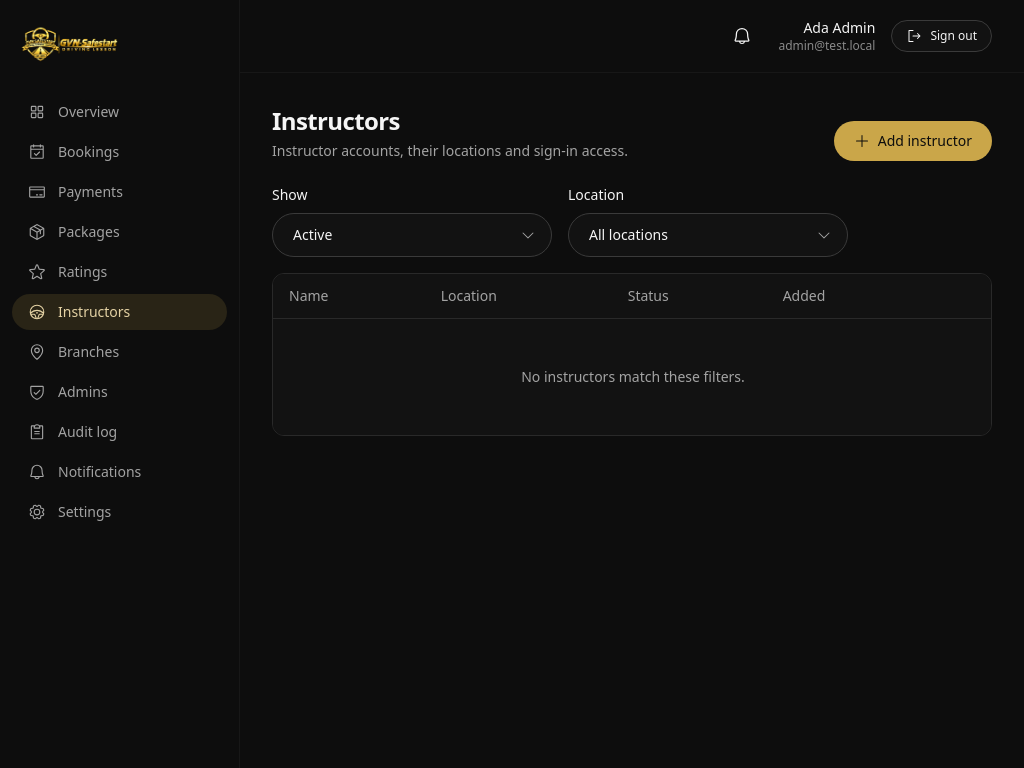
Test: instructors › requires name, email, location and every address part
This screenshot has width=1024, height=768.
Click the button "Add instructor" at (913, 141), box [834, 121, 992, 161]
(page scrolled)
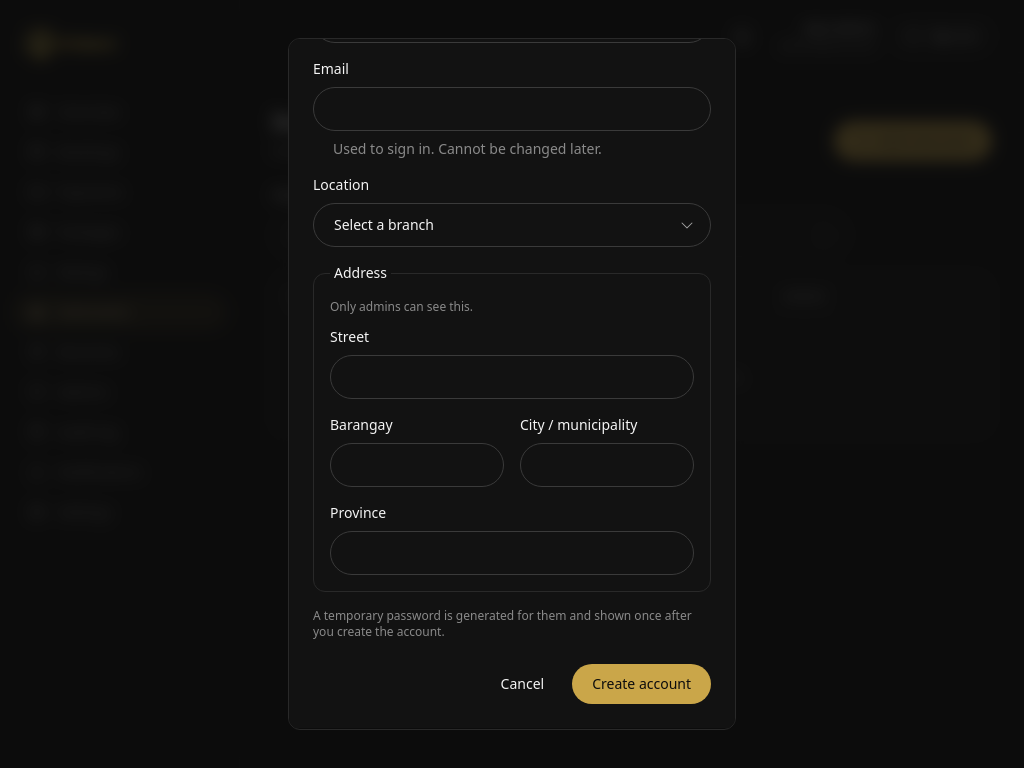
Click the button "Create account" at (642, 684), box [572, 664, 711, 704]
(page scrolled)
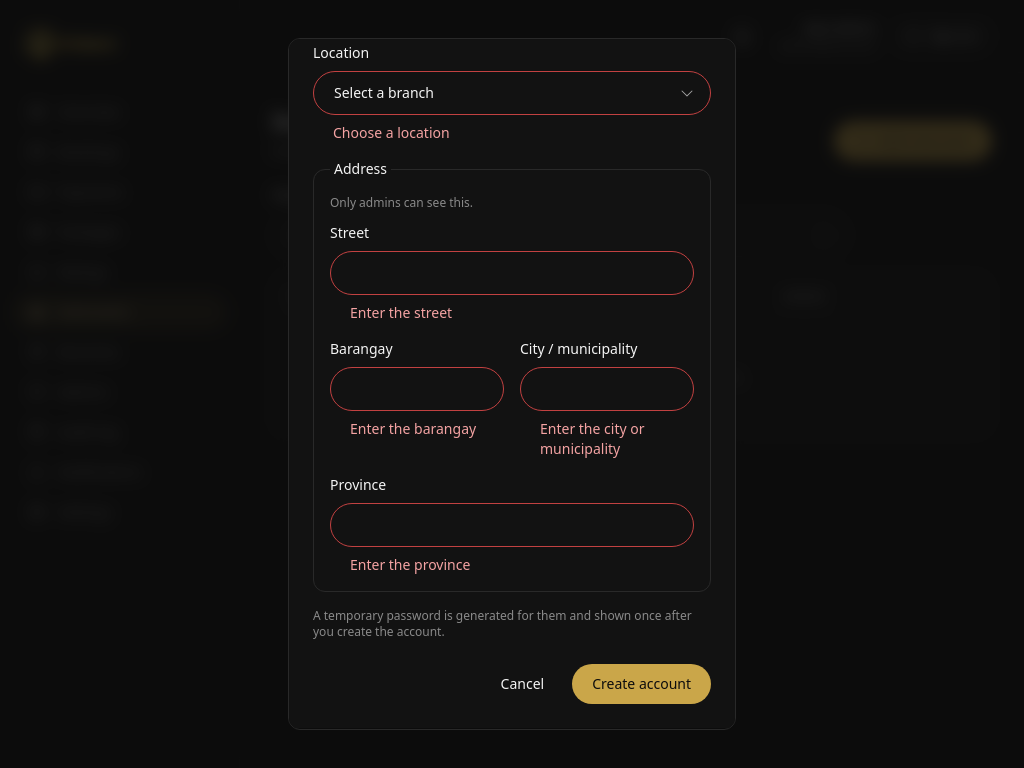
Check: the text "Choose a location" is shown, box [333, 123, 450, 142]
Check: the text "Enter the street" is shown, box [350, 303, 452, 322]
Check: the text "Enter the barangay" is shown, box [350, 419, 476, 438]
